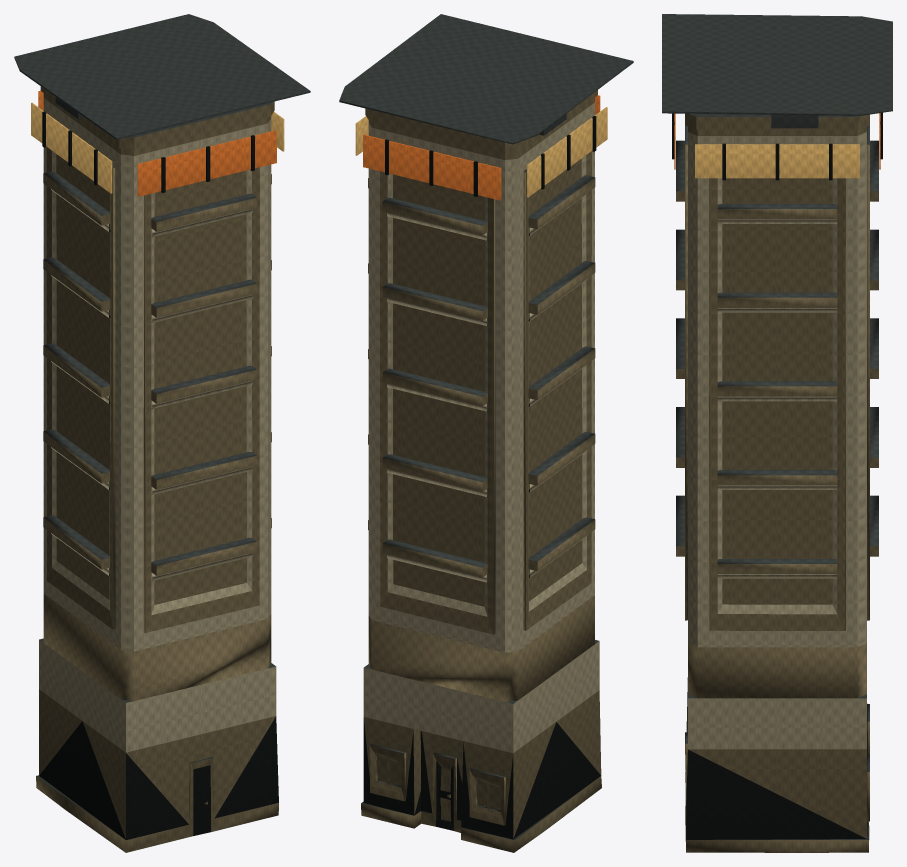
File: lantern-tower-lod.glb
The picture shows the model from 3 angles, left to right: view 1: azimuth 30°, elevation 25°; view 2: azimuth 150°, elevation 25°; view 3: azimuth 270°, elevation 25°; orthographic projection. The views are drawn at different scales.
Visible parts, largest first — view 1: lantern-tower-original-structure, detail-awning, tower-crown-lit-front-back, tower-crown-lit-sides; view 2: lantern-tower-original-structure, detail-awning, tower-crown-lit-front-back.001, tower-crown-lit-sides; view 3: lantern-tower-original-structure, detail-awning, tower-crown-lit-sides.001.
Boxes of the visible parts, bbox=[...] form: lantern-tower-original-structure: bbox=[36, 86, 278, 852]; detail-awning: bbox=[14, 14, 310, 139]; tower-crown-lit-front-back: bbox=[137, 130, 276, 196]; tower-crown-lit-sides: bbox=[31, 102, 112, 193]; lantern-tower-original-structure: bbox=[361, 90, 601, 852]; detail-awning: bbox=[339, 14, 633, 144]; tower-crown-lit-front-back.001: bbox=[363, 134, 501, 200]; tower-crown-lit-sides: bbox=[527, 107, 607, 197]; lantern-tower-original-structure: bbox=[676, 113, 878, 852]; detail-awning: bbox=[662, 14, 892, 128]; tower-crown-lit-sides.001: bbox=[695, 144, 859, 178].
Bounding box in the file's own units: 9.1 × 32.65 × 9.1.
6 materials, 6 textured.
